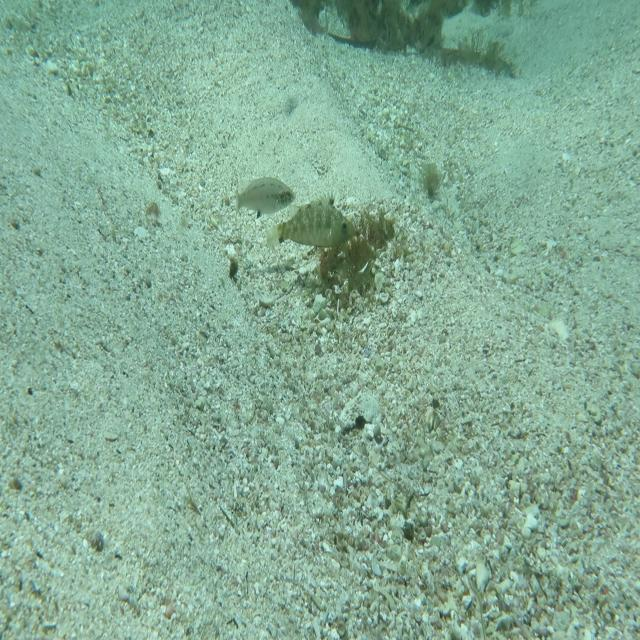ROLL: (262, 185, 358, 255)
female: (233, 169, 297, 224)
nest: (295, 175, 399, 311)
